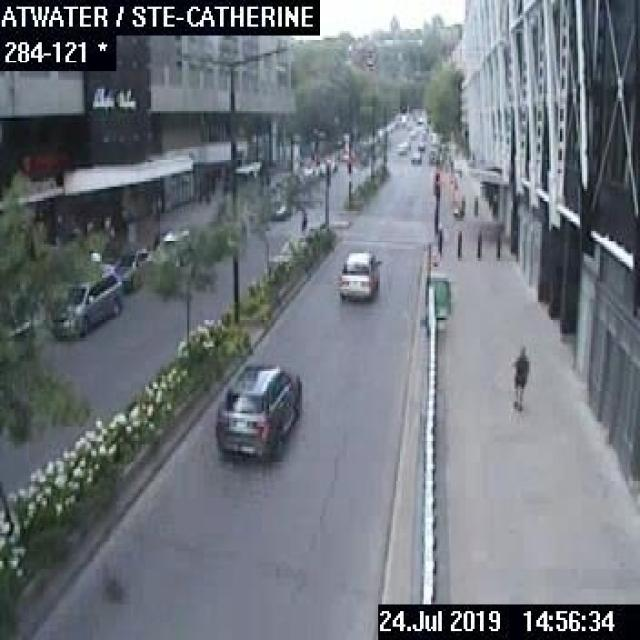pedestrian: (511, 344, 527, 406)
vehicle: (213, 360, 302, 460), (49, 262, 120, 336), (336, 249, 382, 298), (111, 246, 151, 289), (152, 231, 188, 265), (395, 140, 406, 152), (410, 150, 420, 163), (416, 139, 425, 150)
